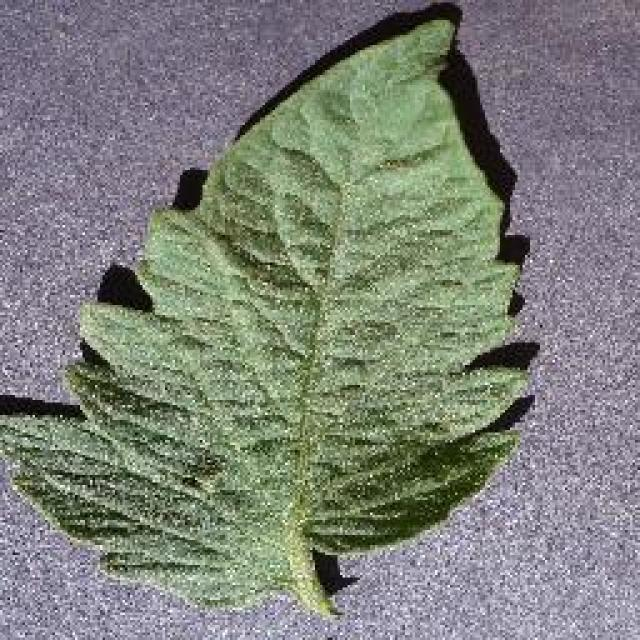Tomato_Healthy: (13, 23, 538, 585)
